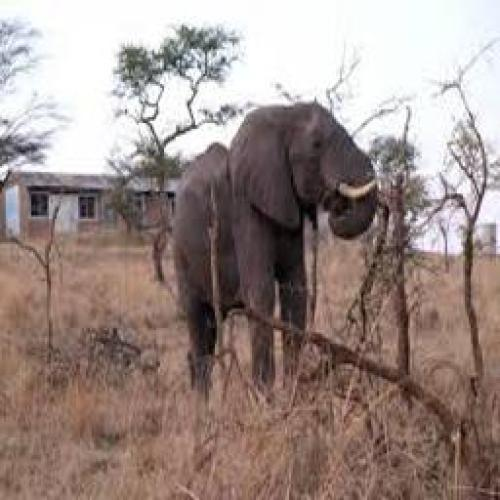african_elephant-endangered: (168, 101, 380, 374)
